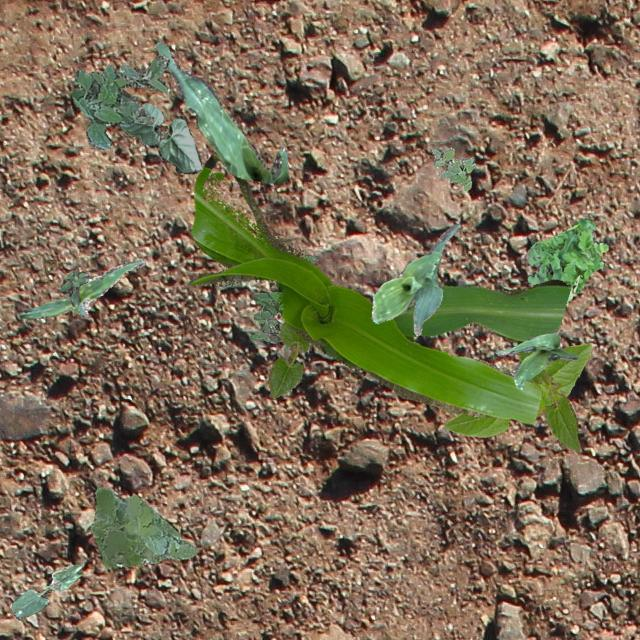crop: (190, 150, 570, 426), (154, 41, 288, 182), (442, 342, 592, 437), (370, 223, 460, 334), (18, 258, 144, 318), (518, 350, 578, 450), (116, 102, 200, 172), (496, 332, 578, 388), (10, 564, 81, 618), (268, 320, 308, 398)
weed: (70, 54, 168, 148), (90, 486, 196, 568), (526, 218, 608, 302), (250, 254, 318, 348), (430, 146, 474, 190), (59, 268, 86, 306)
